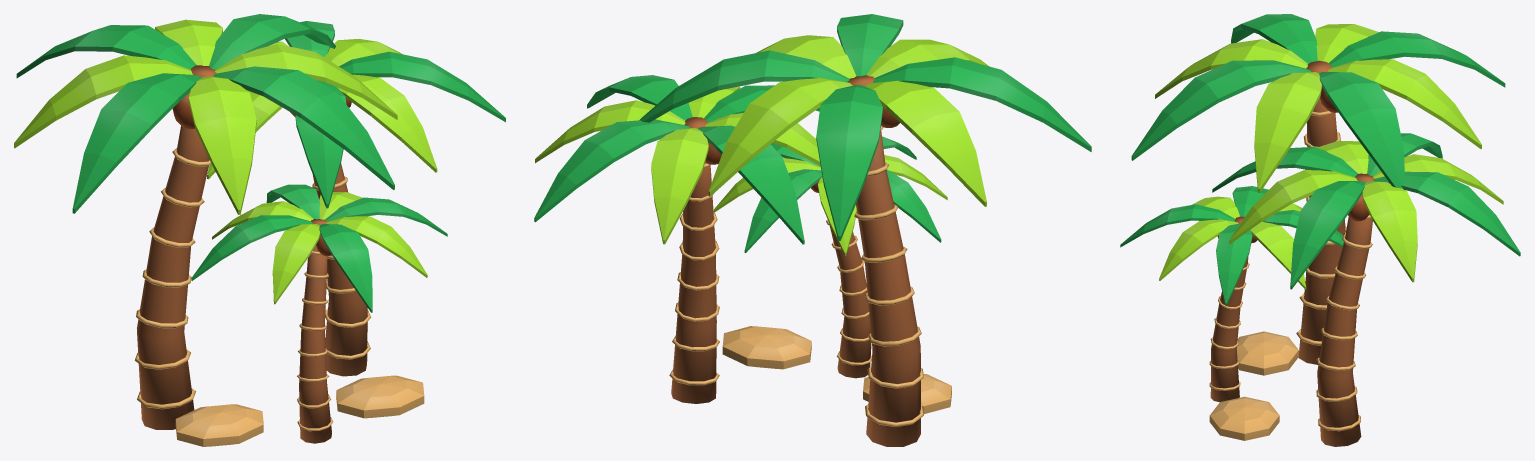
Rendered from GiantPalmCluster.fbx.
3 renders of one model, left to right at view 1: azimuth 30°, elevation 25°; view 2: azimuth 150°, elevation 25°; view 3: azimuth 270°, elevation 25°, orthographic. The views are drawn at different scales.
Visible parts, largest first — view 1: GiantPalmCluster; view 2: GiantPalmCluster; view 3: GiantPalmCluster.
Boxes of the visible parts, x1,y1,x2,y2 form: GiantPalmCluster: [14, 14, 505, 446]; GiantPalmCluster: [534, 14, 1091, 446]; GiantPalmCluster: [1120, 14, 1520, 446].
Bounding box in the file's own units: 24.91 × 18.4 × 20.74.
1 material, 1 textured.
